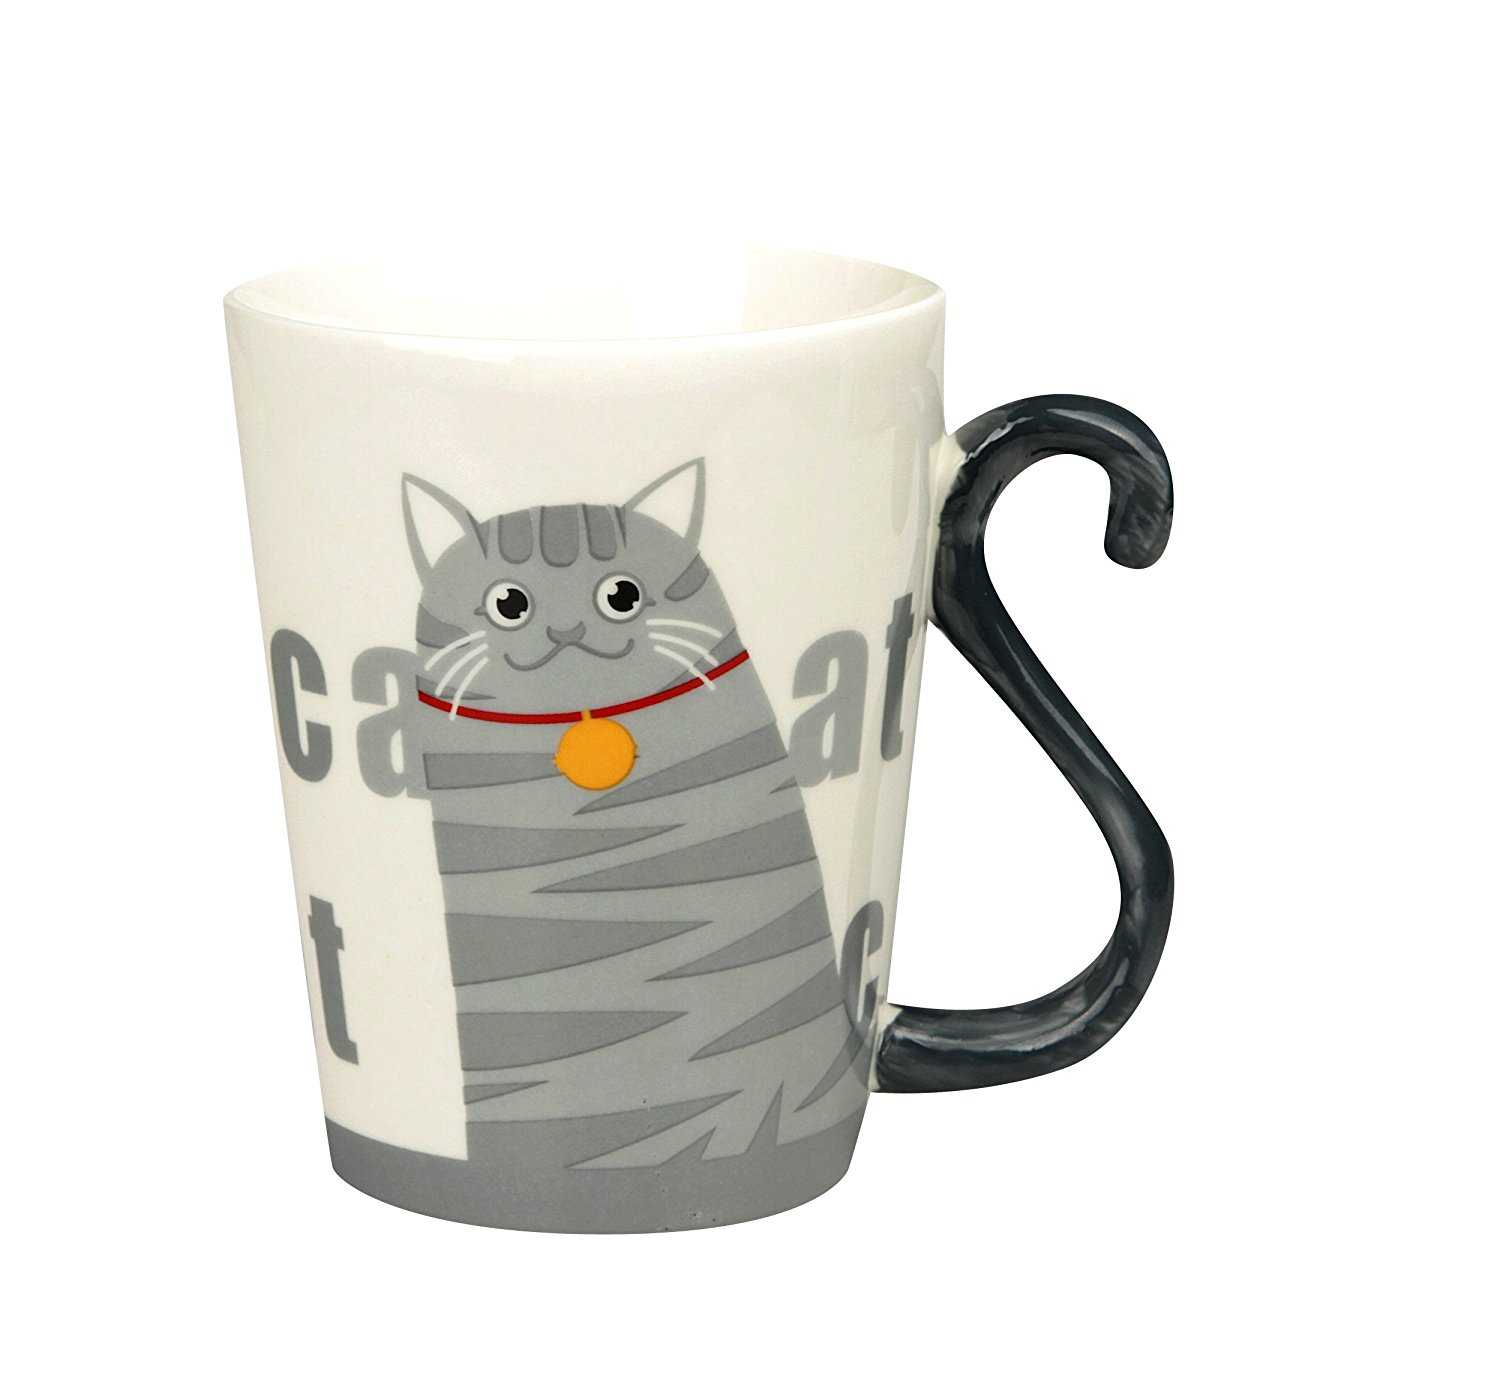cup: (218, 233, 1182, 1244)
